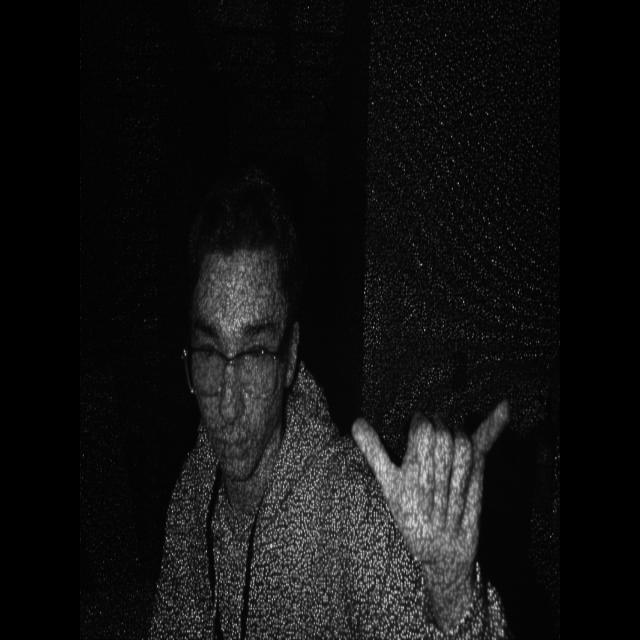Y: (347, 385, 515, 591)
